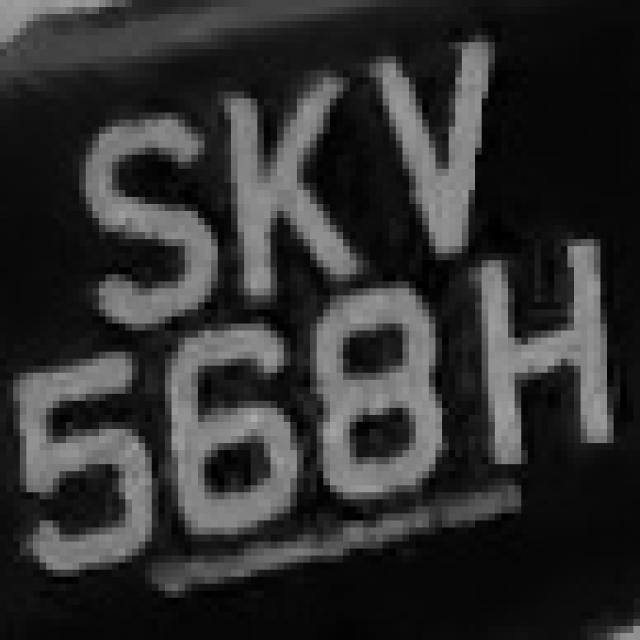5: (0, 330, 158, 583)
6: (145, 324, 310, 584)
8: (304, 274, 448, 514)
H: (456, 253, 634, 492)
K: (185, 56, 363, 316)
S: (53, 85, 224, 338)
V: (343, 28, 515, 281)
